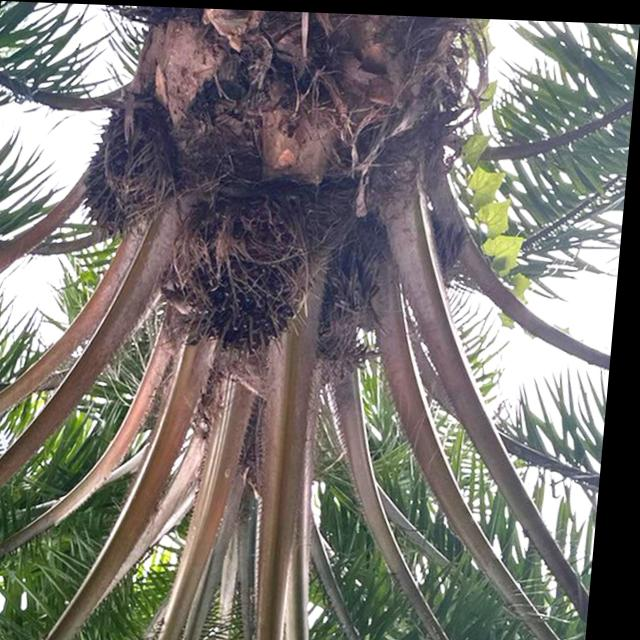ripe: (173, 198, 313, 357)
